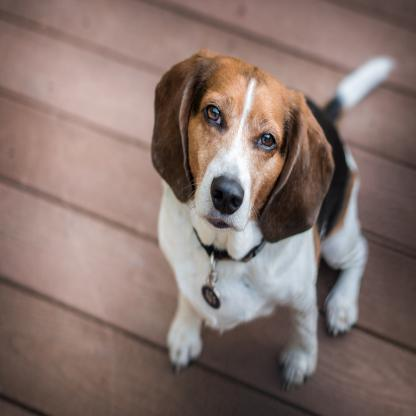Bigl: (150, 47, 401, 393)
